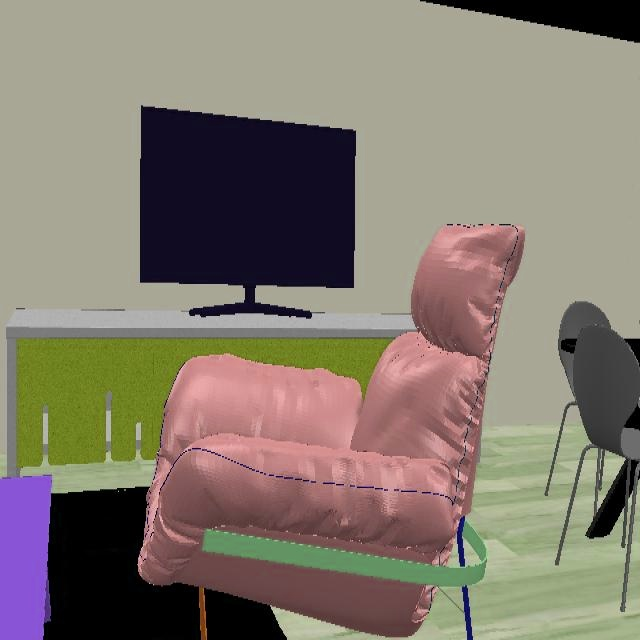chair: (545, 302, 640, 611)
countertop: (5, 310, 414, 475)
monitor: (141, 108, 356, 318)
sofa: (139, 228, 522, 636)
